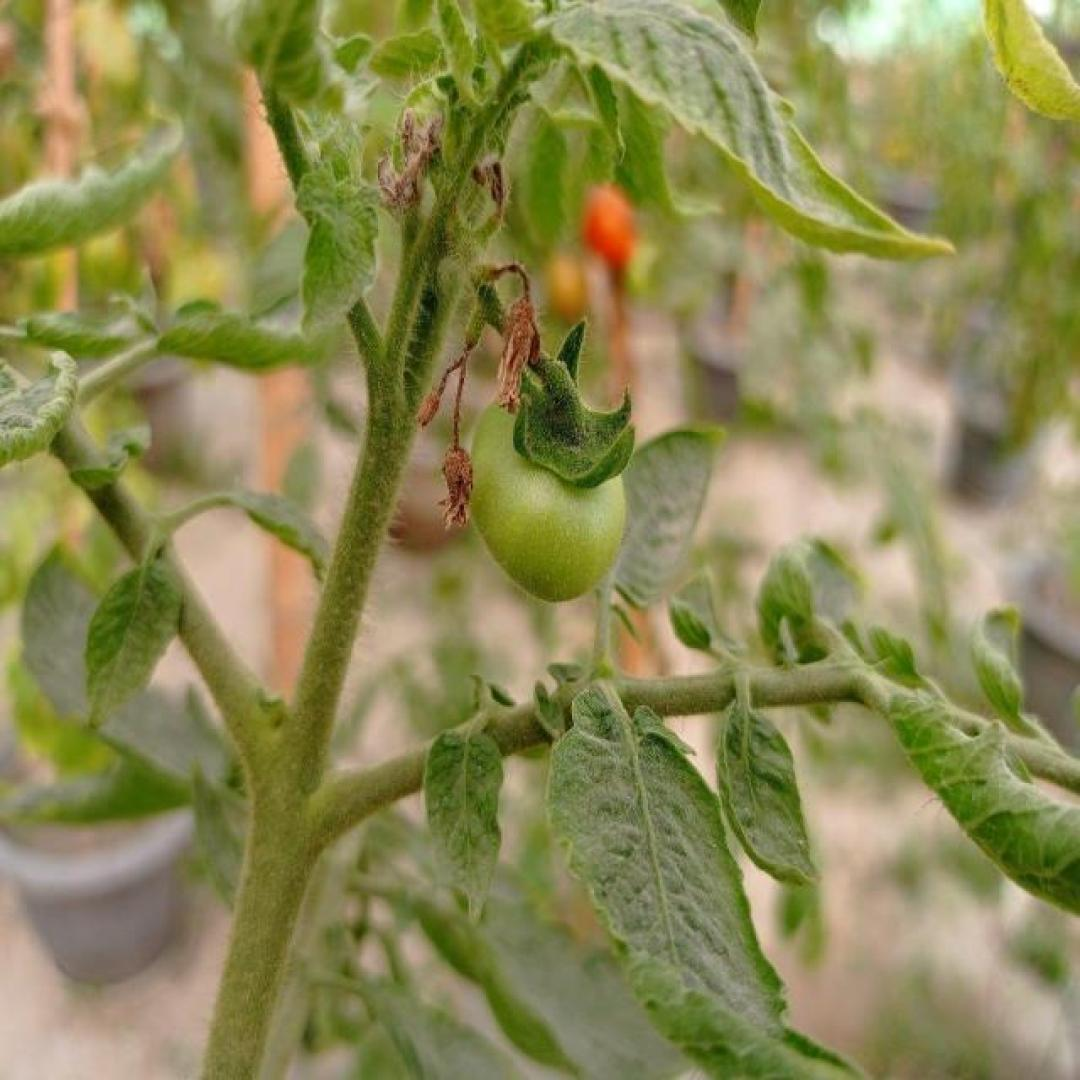mentah: (462, 390, 628, 604)
